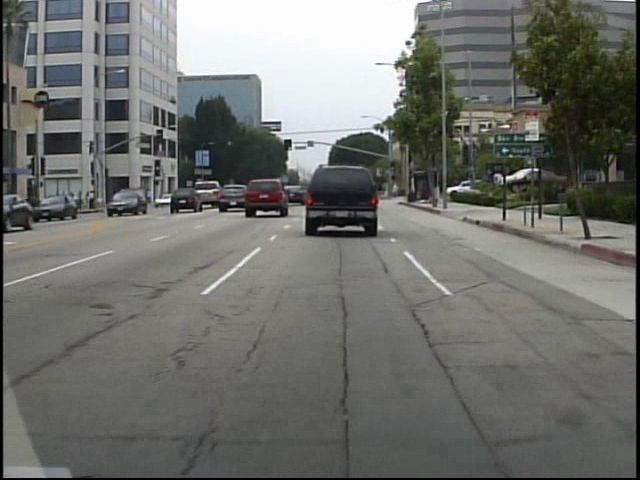person: (133, 187, 144, 209), (389, 181, 400, 202)
